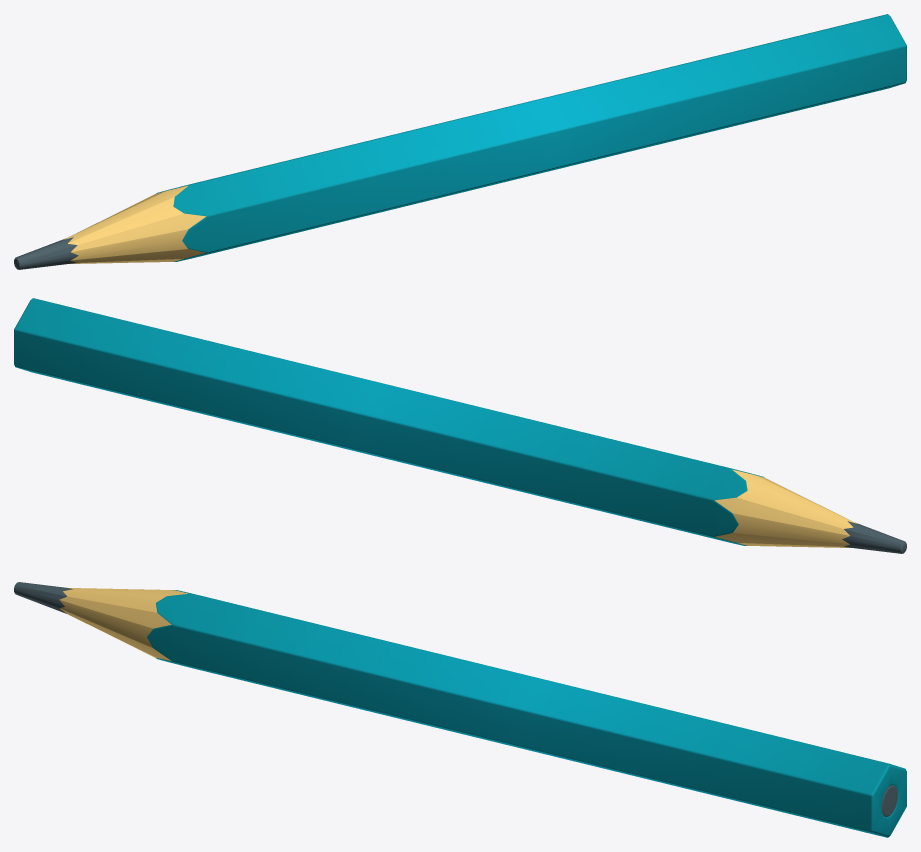
Rendered from Pencil_01.fbx.
3 renders of one model, top to bottom at view 1: azimuth 30°, elevation 25°; view 2: azimuth 150°, elevation 25°; view 3: azimuth 330°, elevation 25°, orthographic.
Visible parts, largest first — view 1: Pencil_01; view 2: Pencil_01; view 3: Pencil_01.
Boxes of the visible parts, x1=… form: Pencil_01: x1=14, y1=14, x2=906, y2=269; Pencil_01: x1=14, y1=298, x2=906, y2=553; Pencil_01: x1=14, y1=582, x2=906, y2=837.
Size of the model in its own units: 15.19 by 1.22 by 1.07.
